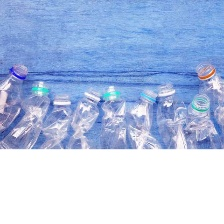bottle: (0, 78, 54, 152), (63, 84, 107, 154), (35, 90, 77, 155), (125, 85, 165, 153), (154, 80, 190, 152), (0, 58, 31, 135), (98, 81, 130, 152), (184, 91, 221, 152), (192, 58, 224, 127)
